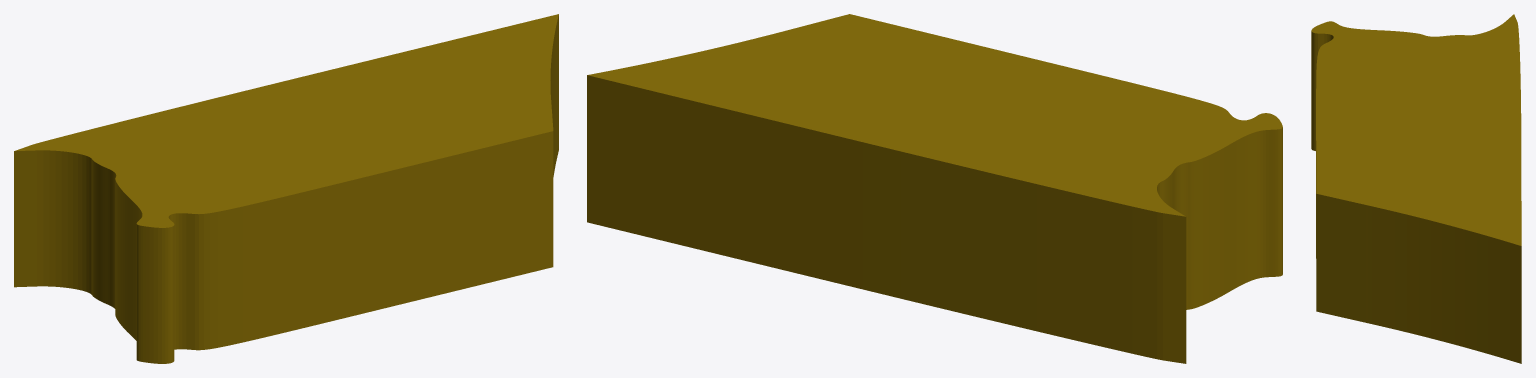
File: North_America_02.obj
3 renders of one model, left to right at view 1: azimuth 30°, elevation 25°; view 2: azimuth 150°, elevation 25°; view 3: azimuth 270°, elevation 25°, orthographic. The views are drawn at different scales.
Parts seen in each view (by area): view 1: North_America_02_path4194; view 2: North_America_02_path4194; view 3: North_America_02_path4194.
Boxes of the visible parts, left/top/right/bottom form: North_America_02_path4194: left=14, top=14, right=558, bottom=363; North_America_02_path4194: left=587, top=14, right=1282, bottom=363; North_America_02_path4194: left=1311, top=14, right=1521, bottom=363.
Size of the model in its own units: 0.4225 by 0.1 by 0.1617.
